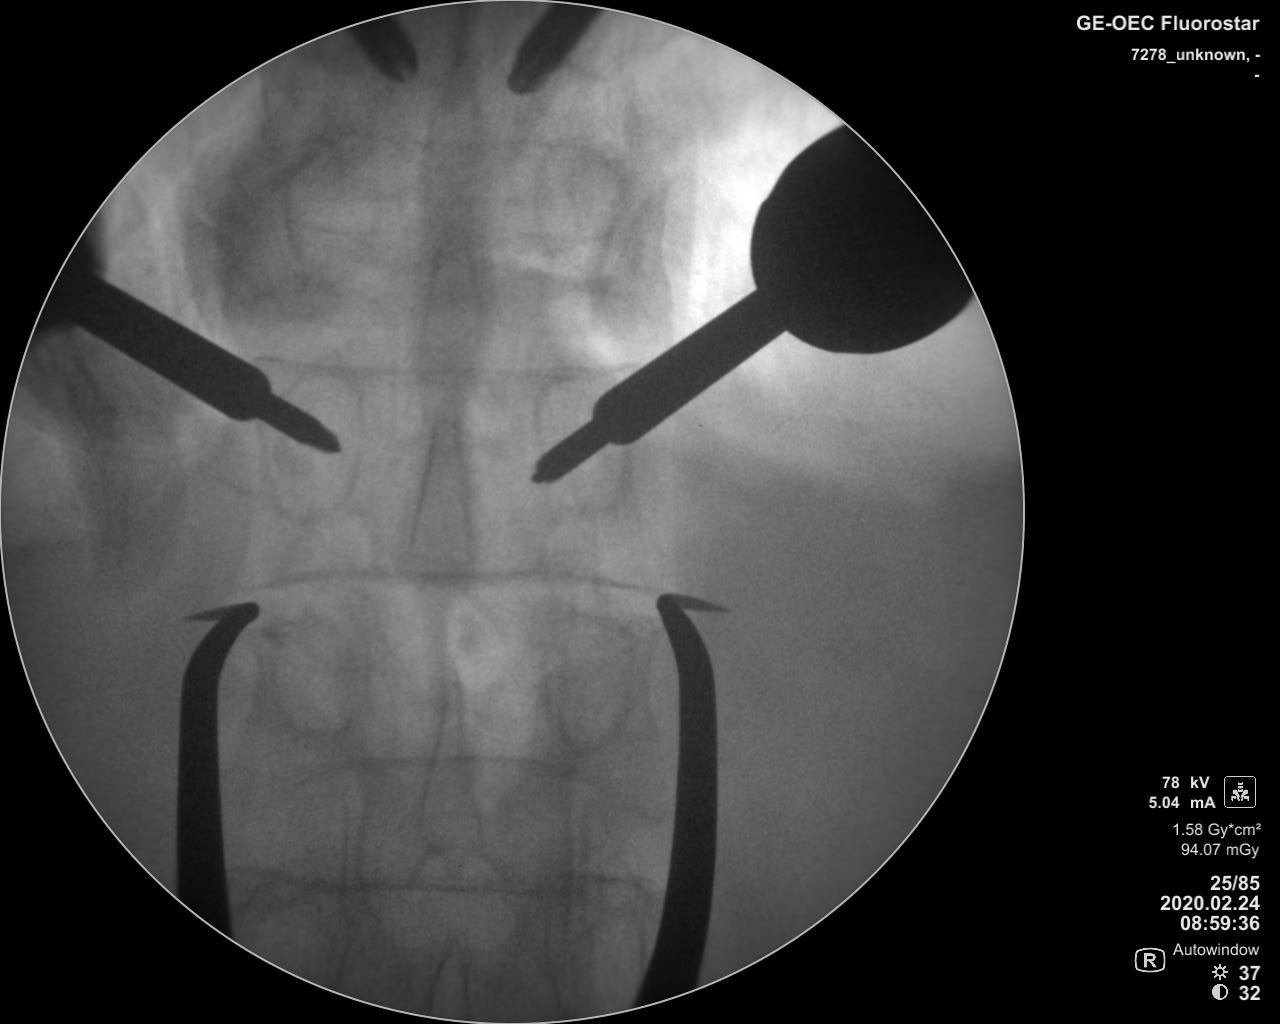eyes: (261, 372, 367, 527), (261, 609, 369, 737), (284, 136, 381, 277), (528, 372, 623, 515), (536, 612, 631, 753), (531, 136, 623, 281), (550, 903, 639, 1013)
line: (257, 866, 606, 903), (261, 350, 624, 385), (248, 757, 612, 788), (241, 569, 649, 594)
nose: (413, 671, 486, 862), (403, 399, 474, 590), (423, 39, 489, 234), (413, 237, 483, 376)
